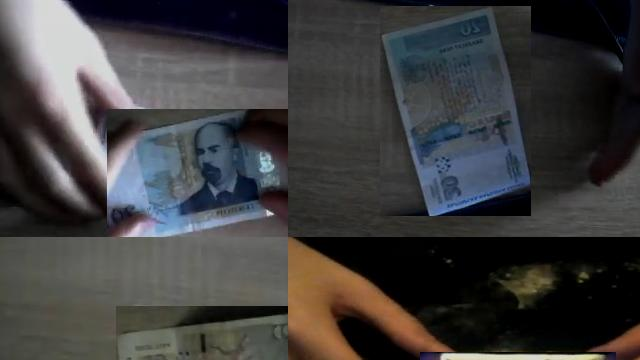10leva: (116, 308, 288, 360)
20leva: (380, 6, 531, 216), (107, 109, 288, 237)
